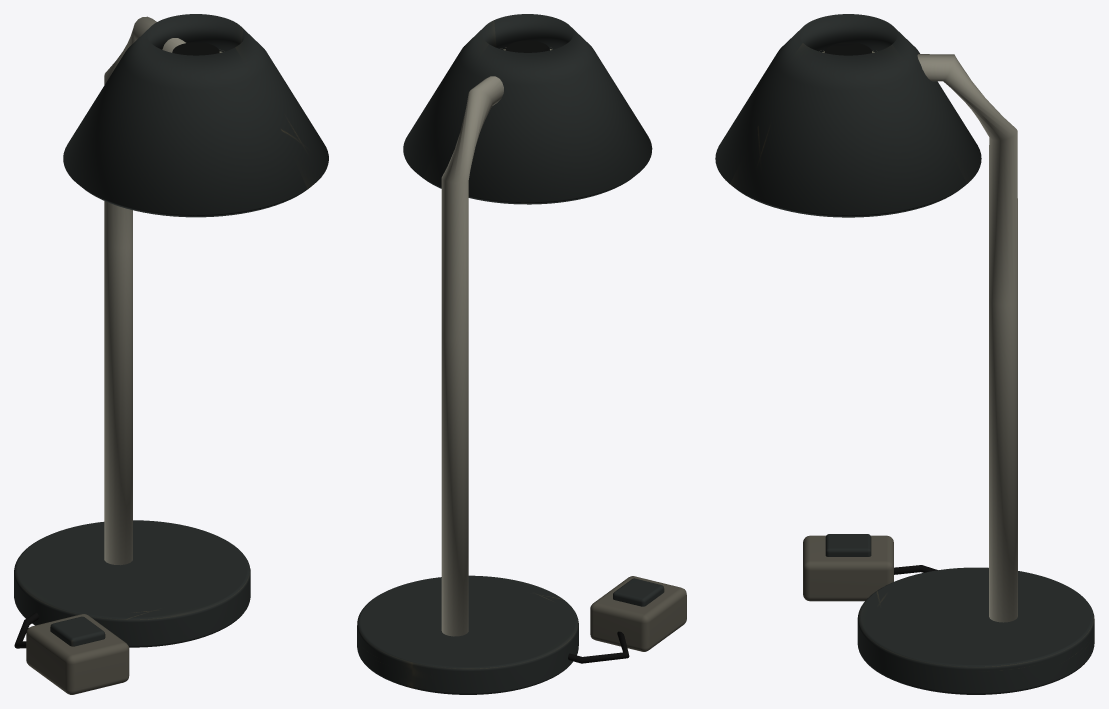
Rendered from C08_ExposureLamp.fbx.
3 renders of one model, left to right at view 1: azimuth 30°, elevation 25°; view 2: azimuth 150°, elevation 25°; view 3: azimuth 270°, elevation 25°, orthographic. The views are drawn at different scales.
Parts seen in each view (by area): view 1: LampHead_Mesh, Body_Mesh, SwitchBody_Mesh, SwitchButton_Mesh; view 2: Body_Mesh, LampHead_Mesh, SwitchBody_Mesh, SwitchButton_Mesh; view 3: Body_Mesh, LampHead_Mesh, SwitchBody_Mesh, SwitchButton_Mesh.
Boxes of the visible parts, box(x1,y1,x2,y2) form: LampHead_Mesh: box(63, 14, 328, 217); Body_Mesh: box(14, 16, 250, 648); SwitchBody_Mesh: box(26, 614, 129, 694); SwitchButton_Mesh: box(50, 616, 105, 646); Body_Mesh: box(357, 76, 629, 694); LampHead_Mesh: box(403, 14, 652, 204); SwitchBody_Mesh: box(590, 576, 686, 651); SwitchButton_Mesh: box(613, 578, 664, 606); Body_Mesh: box(857, 54, 1094, 694); LampHead_Mesh: box(715, 14, 981, 217); SwitchBody_Mesh: box(803, 535, 893, 601); SwitchButton_Mesh: box(825, 534, 871, 556).
Bounding box in the file's own units: 0.168 × 0.37 × 0.208.
